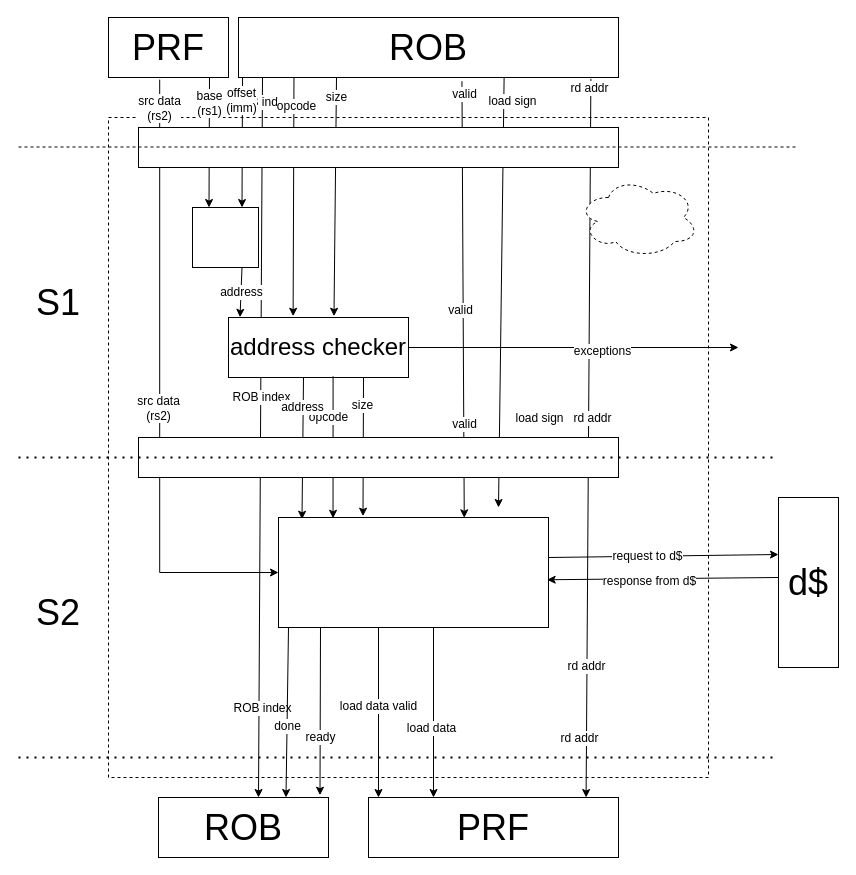
Some shapes in this 856 by 875 pixel diagram are drawn without their labels. The shapes that lost their labels are listed below. From the top down, each one's box as (x1, y1, x2, y2) in pixels, then its label:
(192, 206, 258, 268): AGU
(578, 176, 698, 258): LSU
(278, 516, 548, 628): control unit
